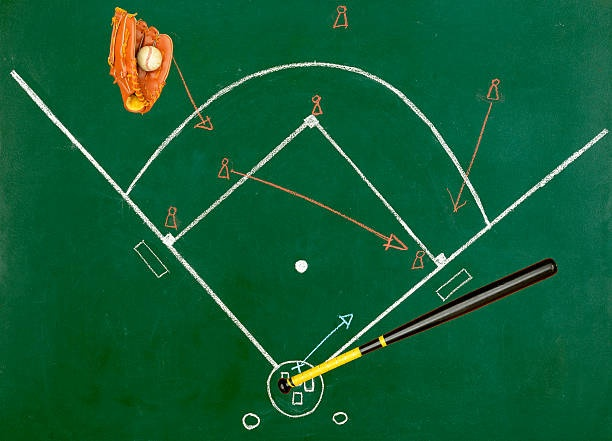bita: (276, 261, 562, 392)
